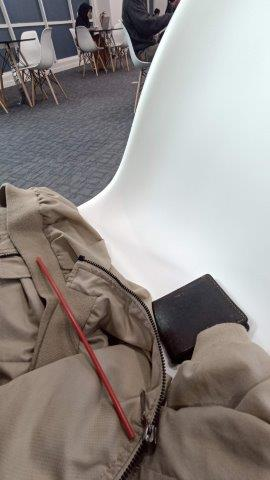sedotan: (36, 259, 134, 439)
